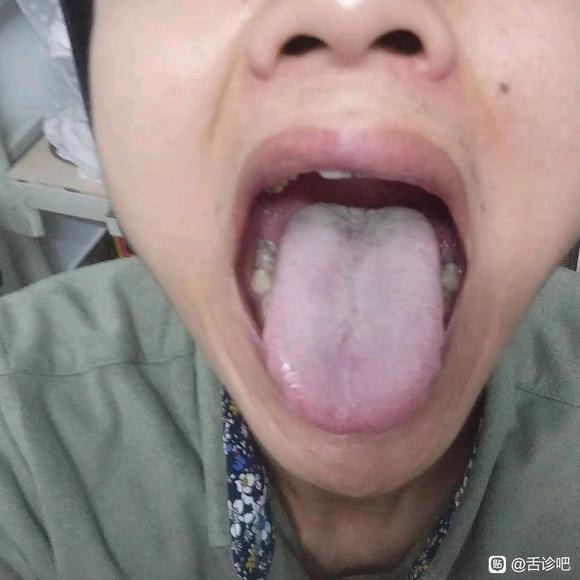baitaishe: (263, 202, 446, 433)
shenquao: (316, 202, 396, 234)
